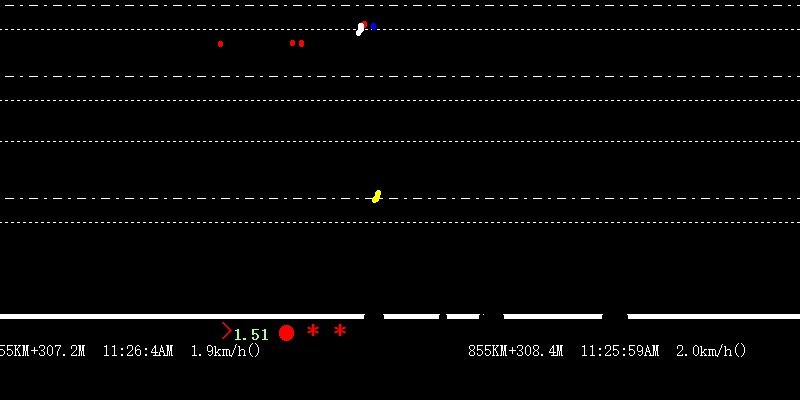circle: (275, 323, 295, 342)
face_s: (355, 20, 369, 36)
star: (306, 321, 319, 338), (333, 323, 348, 337)
